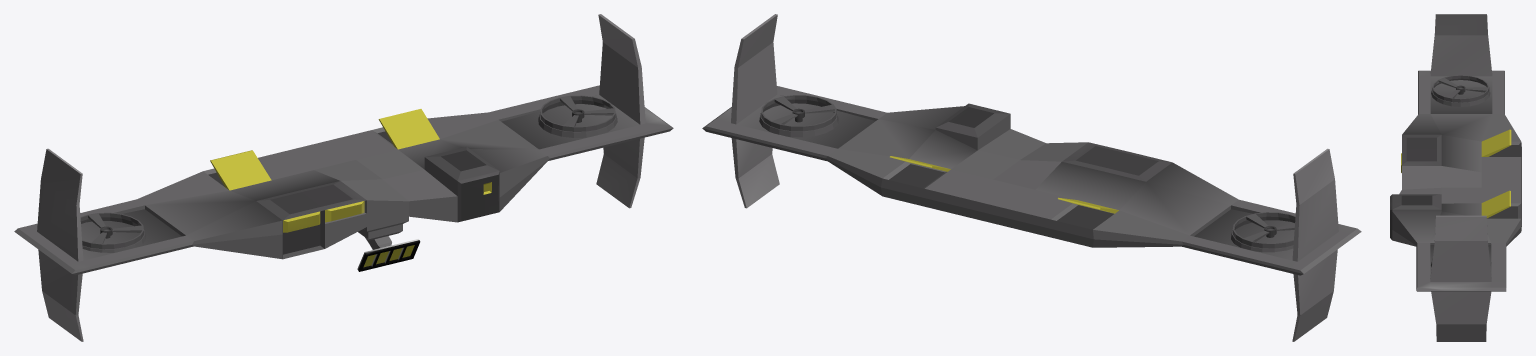
File: SpaceShip.fbx
The picture shows the model from 3 angles, left to right: view 1: azimuth 30°, elevation 25°; view 2: azimuth 150°, elevation 25°; view 3: azimuth 270°, elevation 25°; orthographic projection. The views are drawn at different scales.
Visible parts, largest first — view 1: Nave; view 2: Nave; view 3: Nave.
Boxes of the visible parts, x1=… form: Nave: x1=14, y1=14, x2=673, y2=341; Nave: x1=702, y1=14, x2=1361, y2=341; Nave: x1=1390, y1=14, x2=1521, y2=341.
Bounding box in the file's own units: 17412 × 4672 × 4418.
